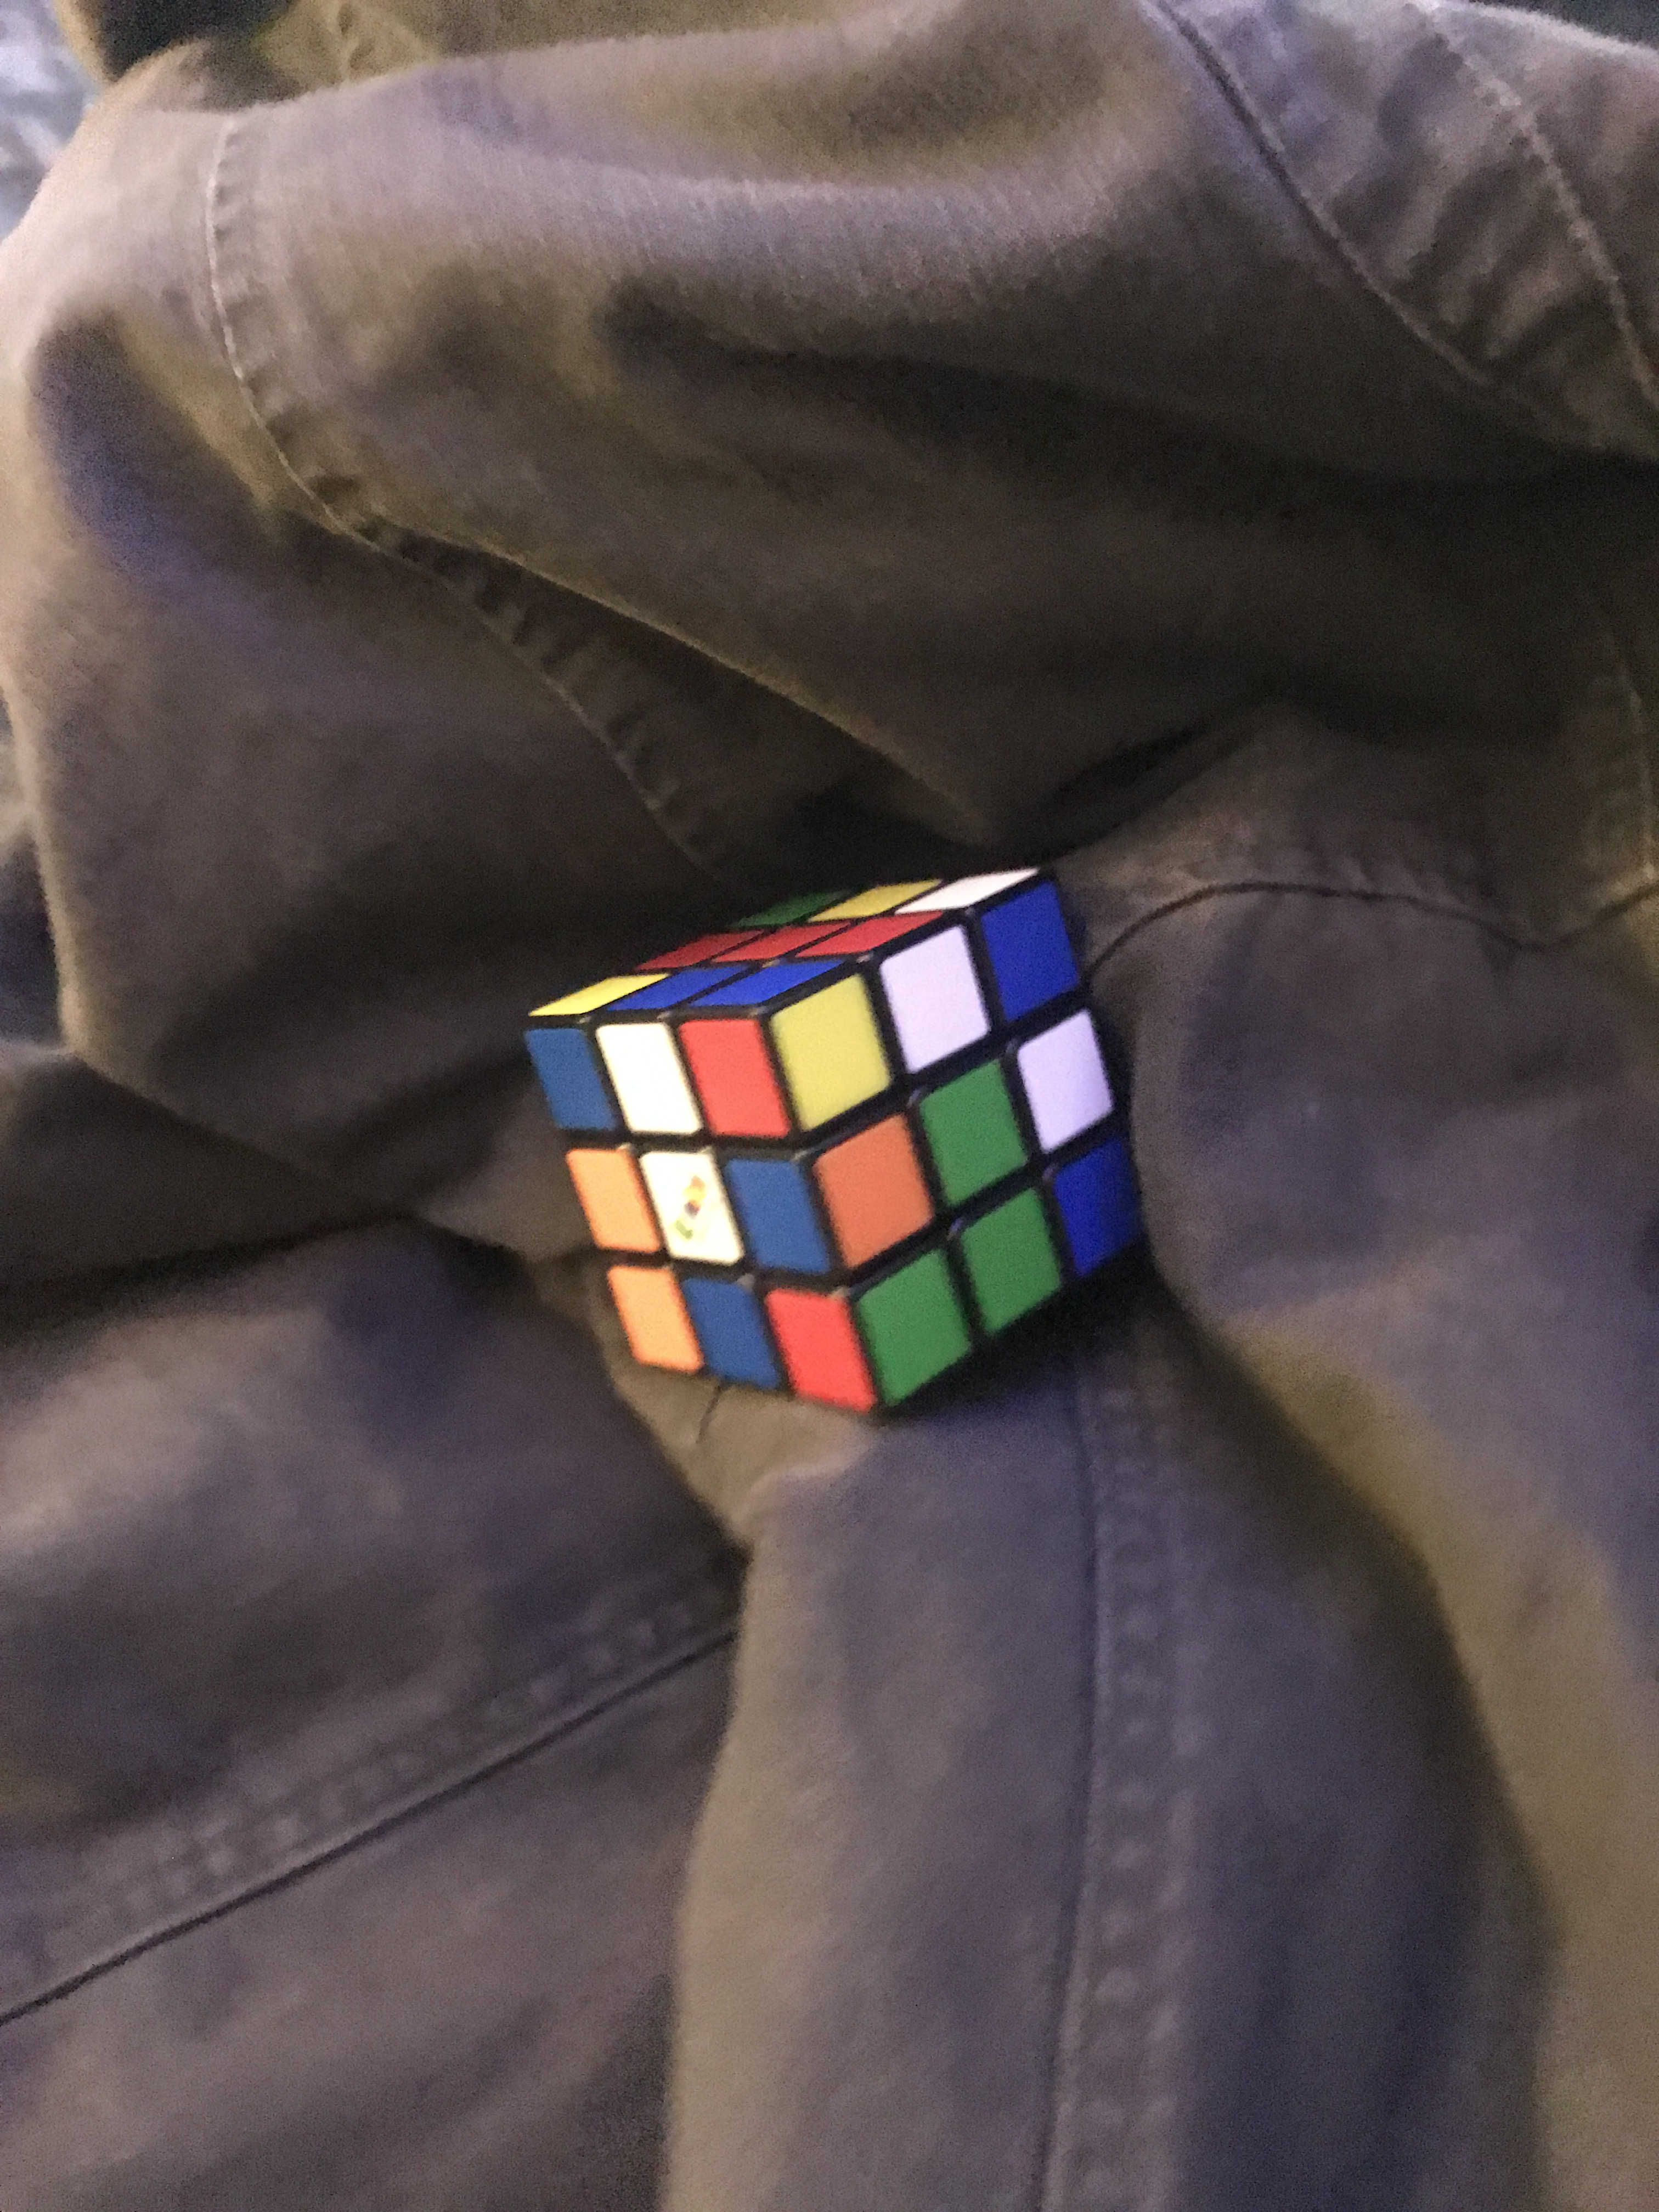rubiks: (532, 853, 1164, 1437)
